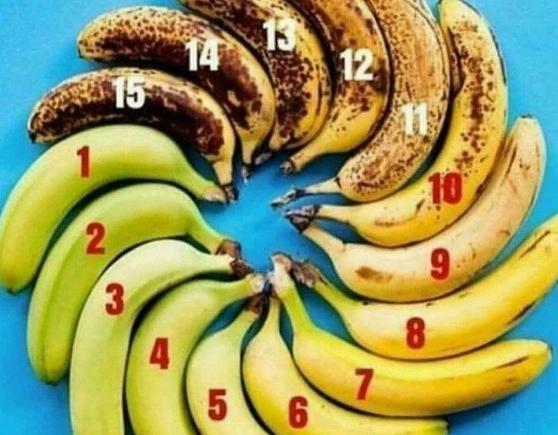banana: (293, 261, 558, 357)
